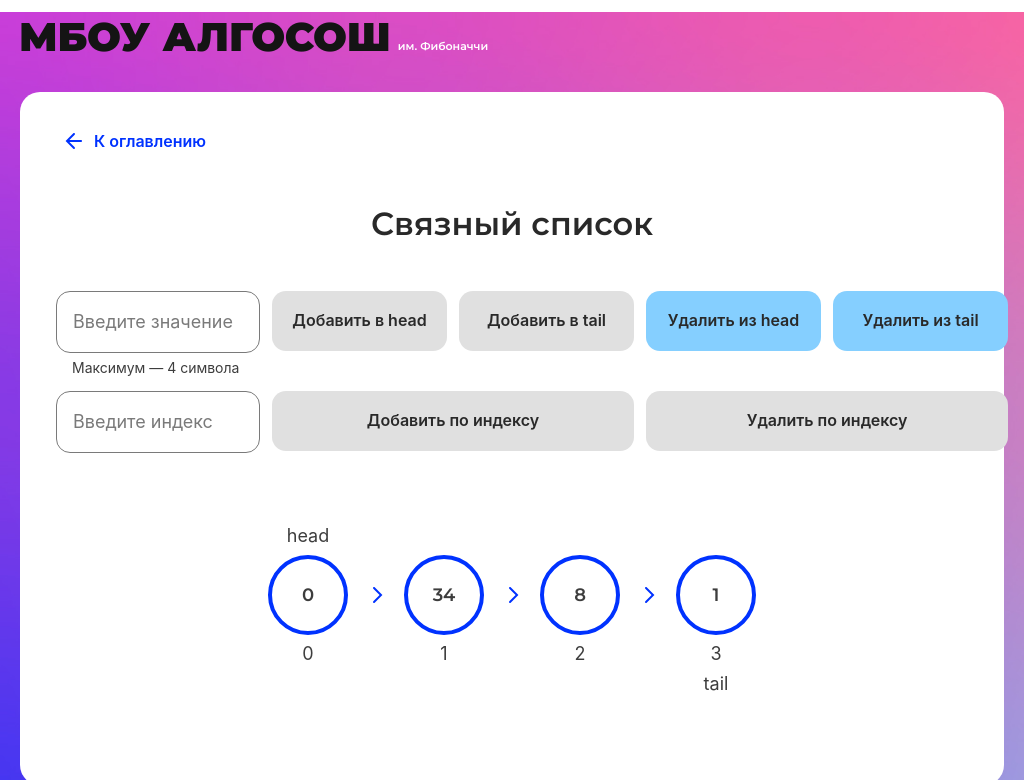
it: Тестирование страницы Связный список › Корректность удаления элемента из head
The width and height of the screenshot is (1024, 780).
Click the button "Удалить из head". click: [734, 321]
box: [646,291,821,351]
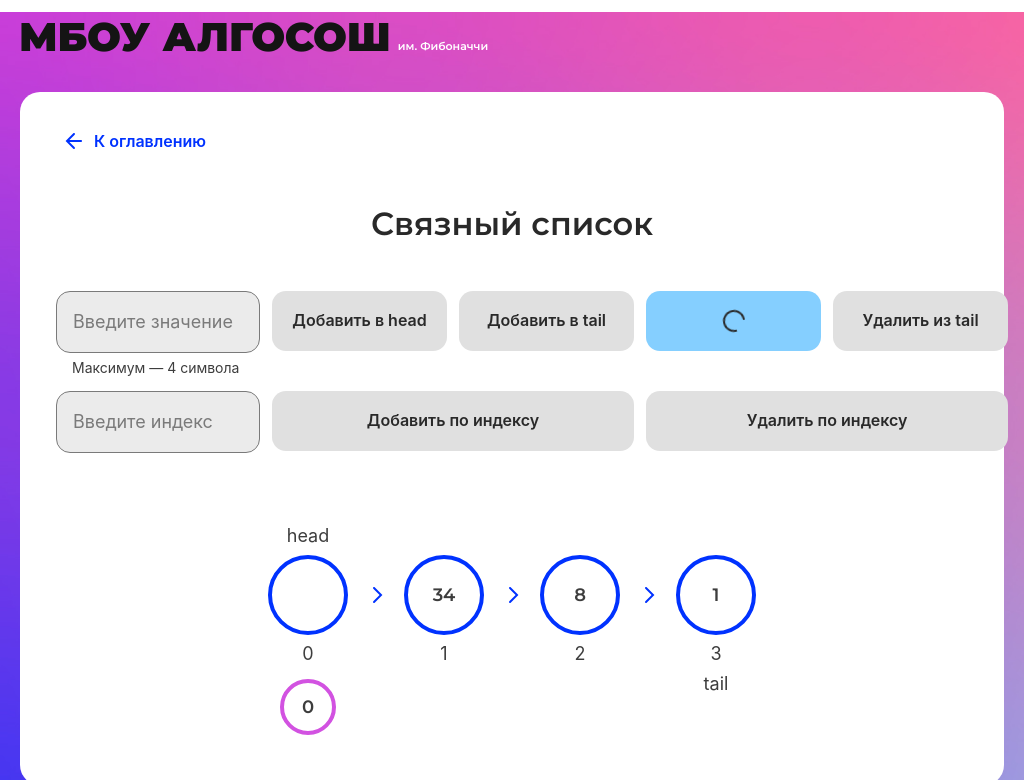
expect the element showing "0" is shown: met, box [280,679,336,735]
Wait "1000"
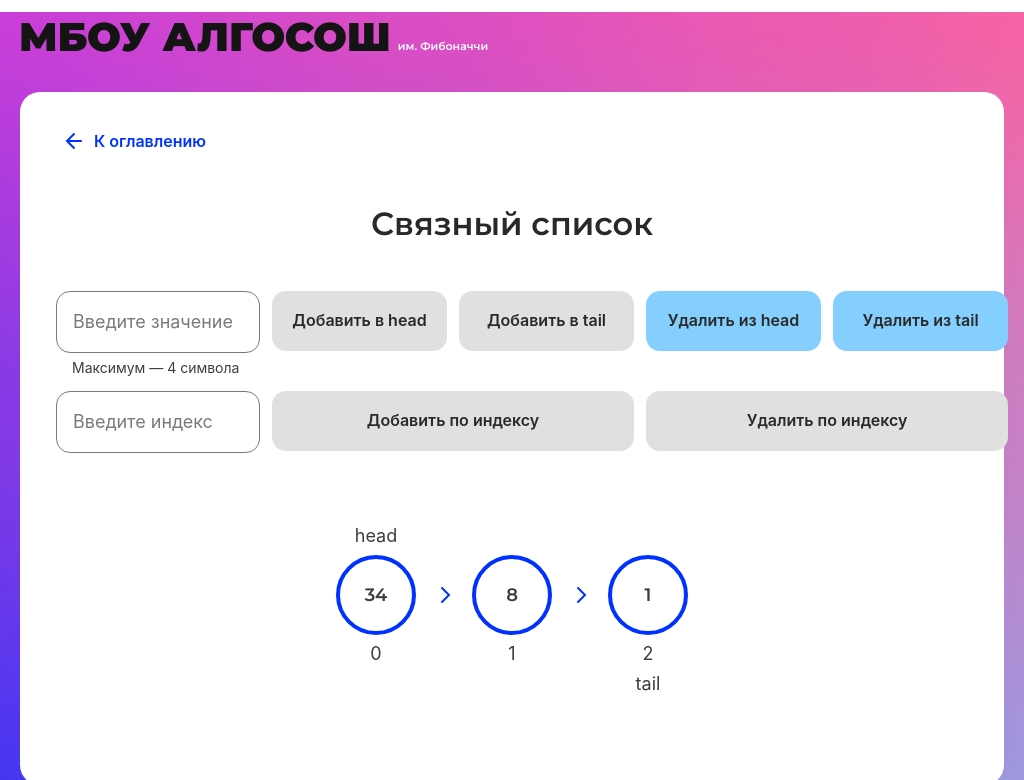
expect the text "head" is shown: met, box [355,525,397,547]
expect the element showing "34" is shown: met, box [336,555,416,635]
